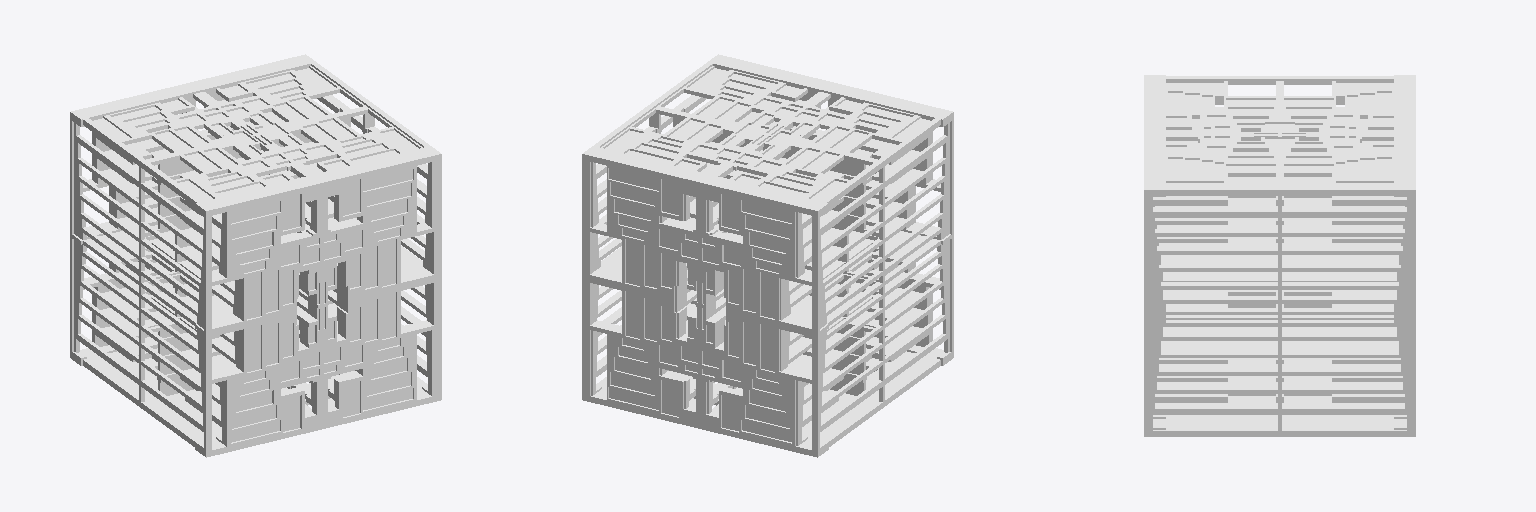
Rendered from weird.obj.
3 renders of one model, left to right at view 1: azimuth 30°, elevation 25°; view 2: azimuth 150°, elevation 25°; view 3: azimuth 270°, elevation 25°, orthographic.
Size of the model in its own units: 126 by 126 by 126.